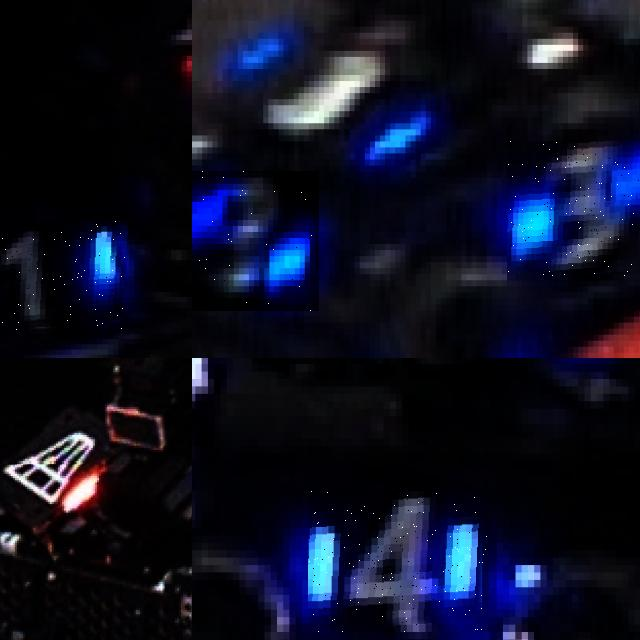B1: (0, 220, 129, 336)
B3: (506, 141, 640, 280), (192, 171, 319, 310)
B4: (308, 491, 491, 632)
